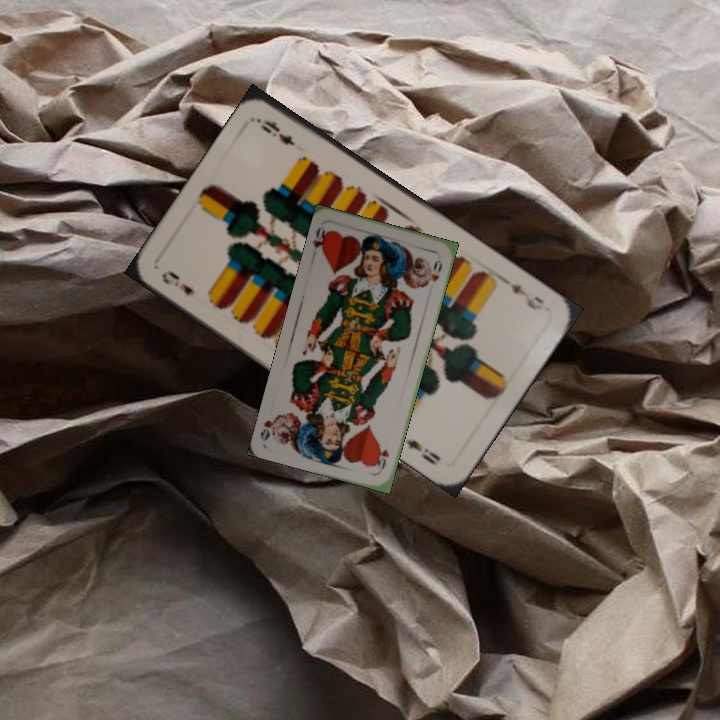E9: (499, 275, 547, 313), (157, 266, 198, 298)
HO: (308, 221, 332, 257), (373, 443, 392, 472)
